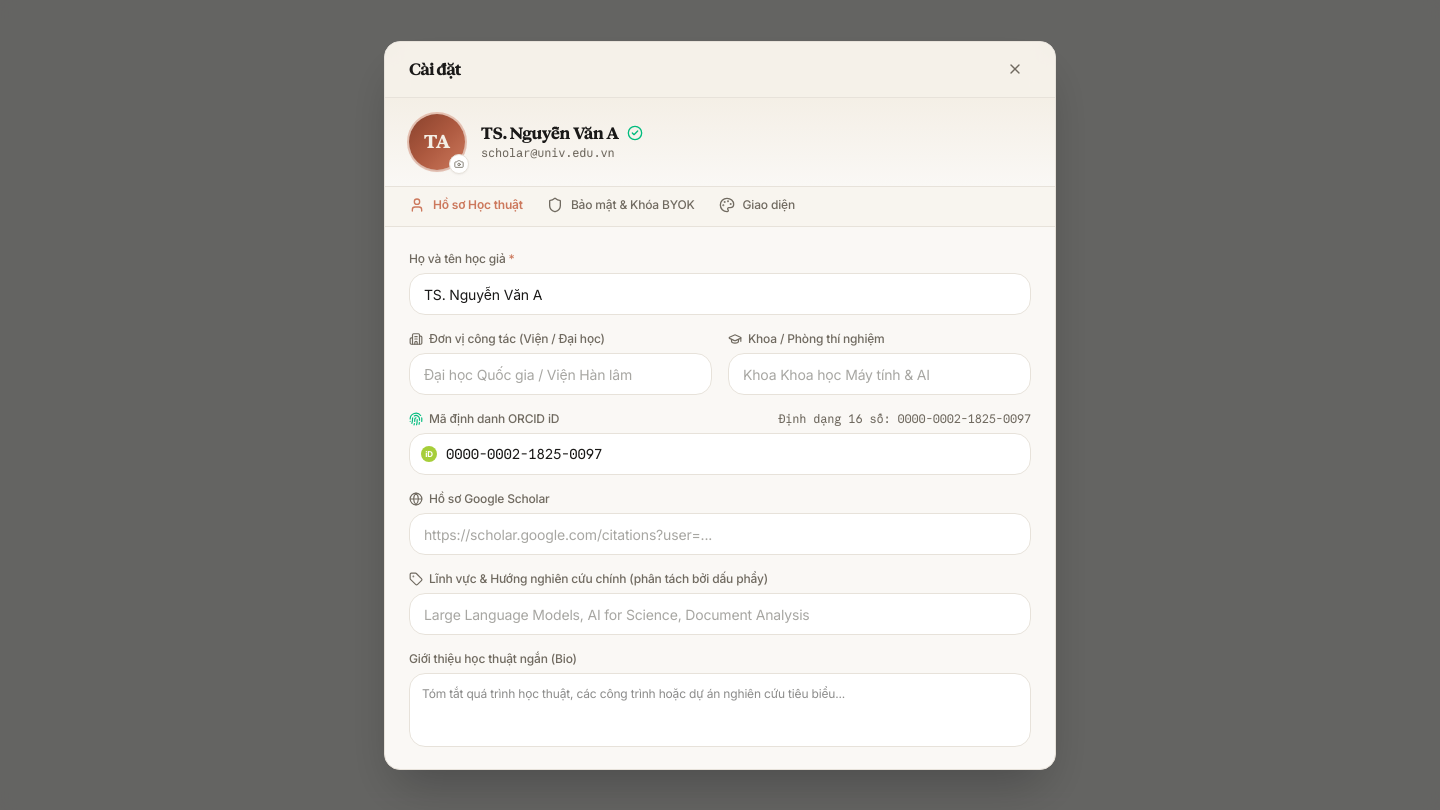
Test case: UserProfileModal 3 Tabs Component › renders 3 tabs and displays masked BYOK key when available
The image size is (1440, 810).
Expected: the text "Hồ sơ Học thuật" is shown, [433, 198, 523, 214]
Expected: the text "Bảo mật & Khóa BYOK" is shown, [571, 198, 695, 214]
Click Tab 2
Click the button "Bảo mật & Khóa BYOK": click(621, 206) [547, 184, 695, 230]
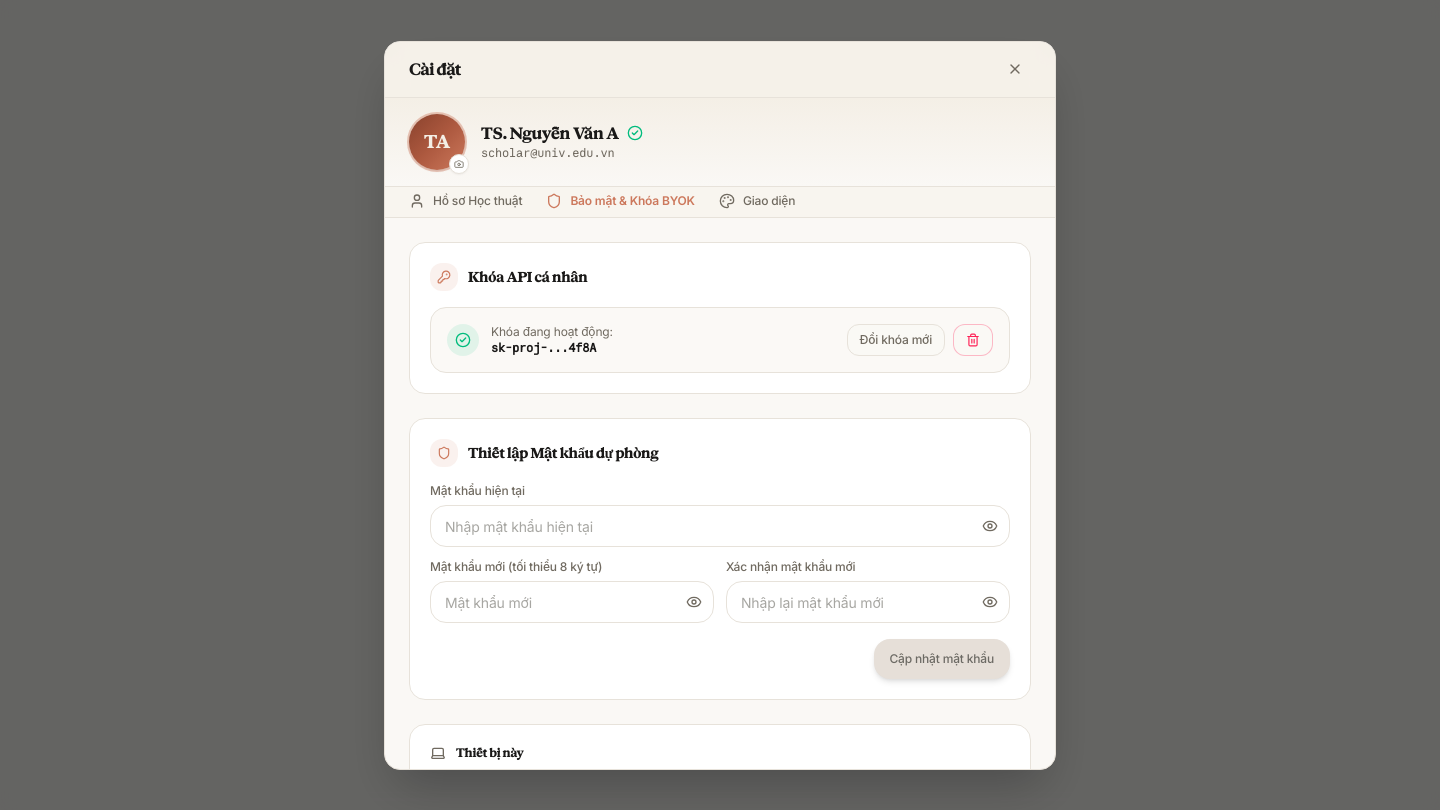
Expected: the text "sk-proj-...4f8A" is shown, [491, 340, 613, 356]
